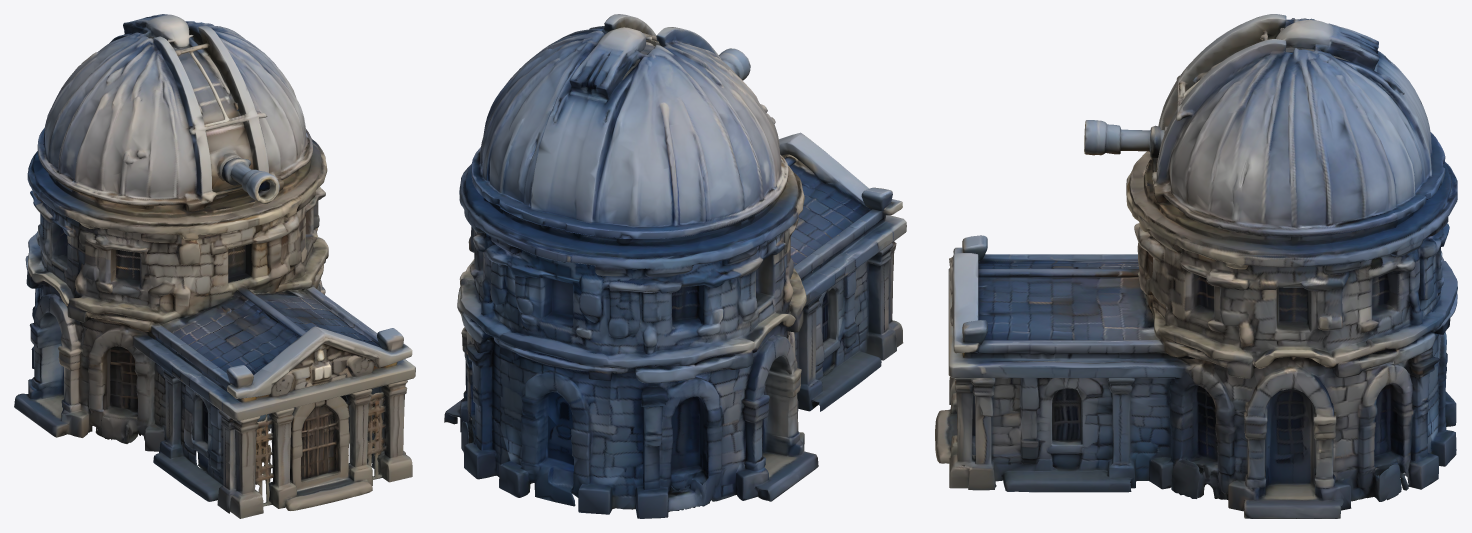
The model's file is building-observatory.glb.
The picture shows the model from 3 angles, left to right: view 1: azimuth 30°, elevation 25°; view 2: azimuth 150°, elevation 25°; view 3: azimuth 270°, elevation 25°; orthographic projection. The views are drawn at different scales.
Visible parts, largest first — view 1: tripo_node_cb5925bf-02ca-4599-a337-61b9c9abdd0d; view 2: tripo_node_cb5925bf-02ca-4599-a337-61b9c9abdd0d; view 3: tripo_node_cb5925bf-02ca-4599-a337-61b9c9abdd0d.
Part boxes in pixels (x1,y1,x2,y2): tripo_node_cb5925bf-02ca-4599-a337-61b9c9abdd0d: (14, 14, 415, 518); tripo_node_cb5925bf-02ca-4599-a337-61b9c9abdd0d: (444, 14, 906, 518); tripo_node_cb5925bf-02ca-4599-a337-61b9c9abdd0d: (935, 14, 1457, 518).
Size of the model in its own units: 8.13 by 10 by 11.33.
1 material, 1 textured.
